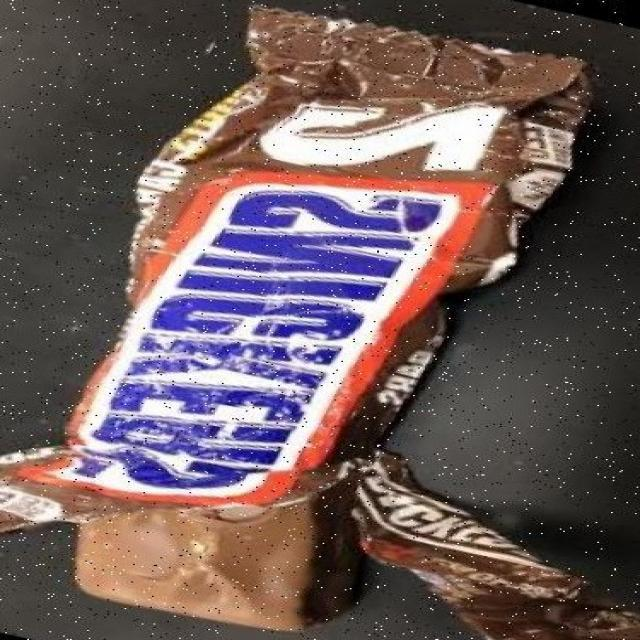Dry: (128, 0, 575, 335), (75, 320, 452, 482), (341, 471, 639, 640), (0, 445, 103, 526)
